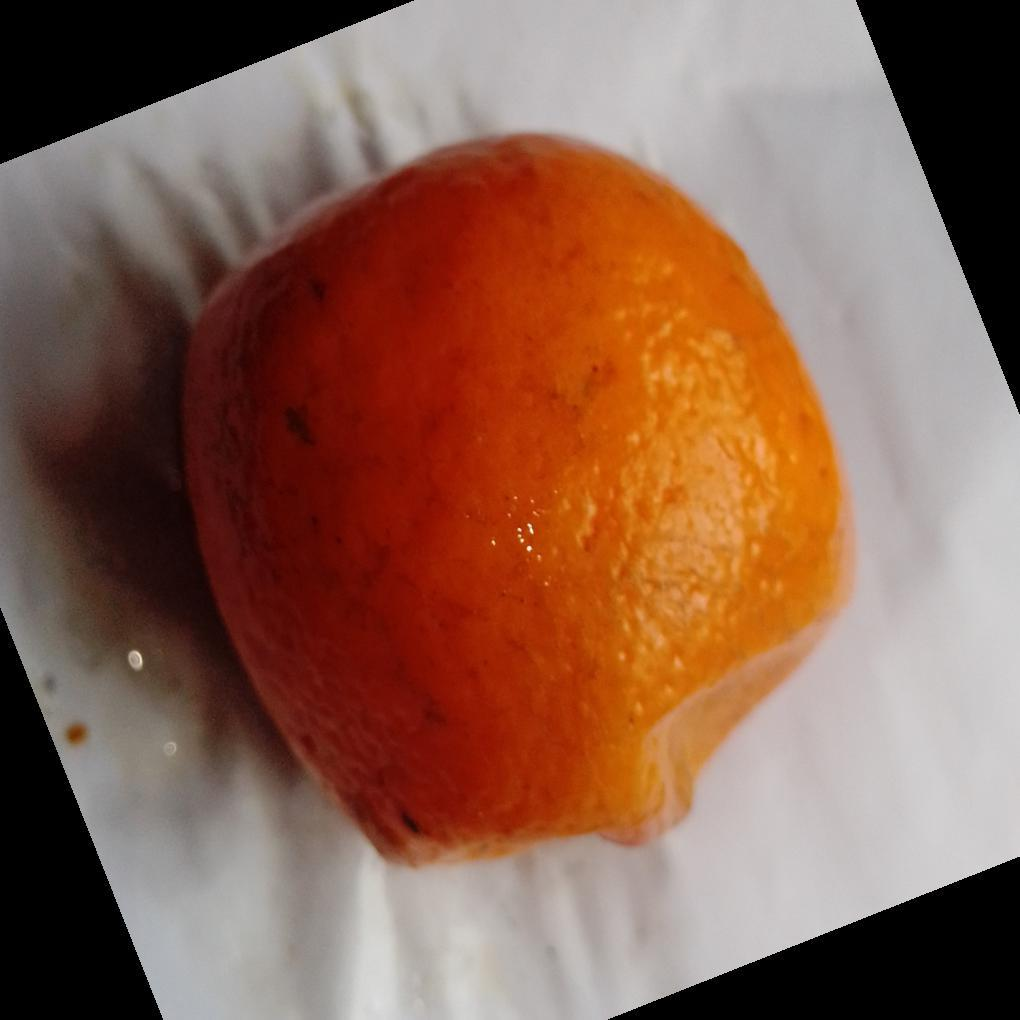FreshOrange: (177, 132, 857, 877)
